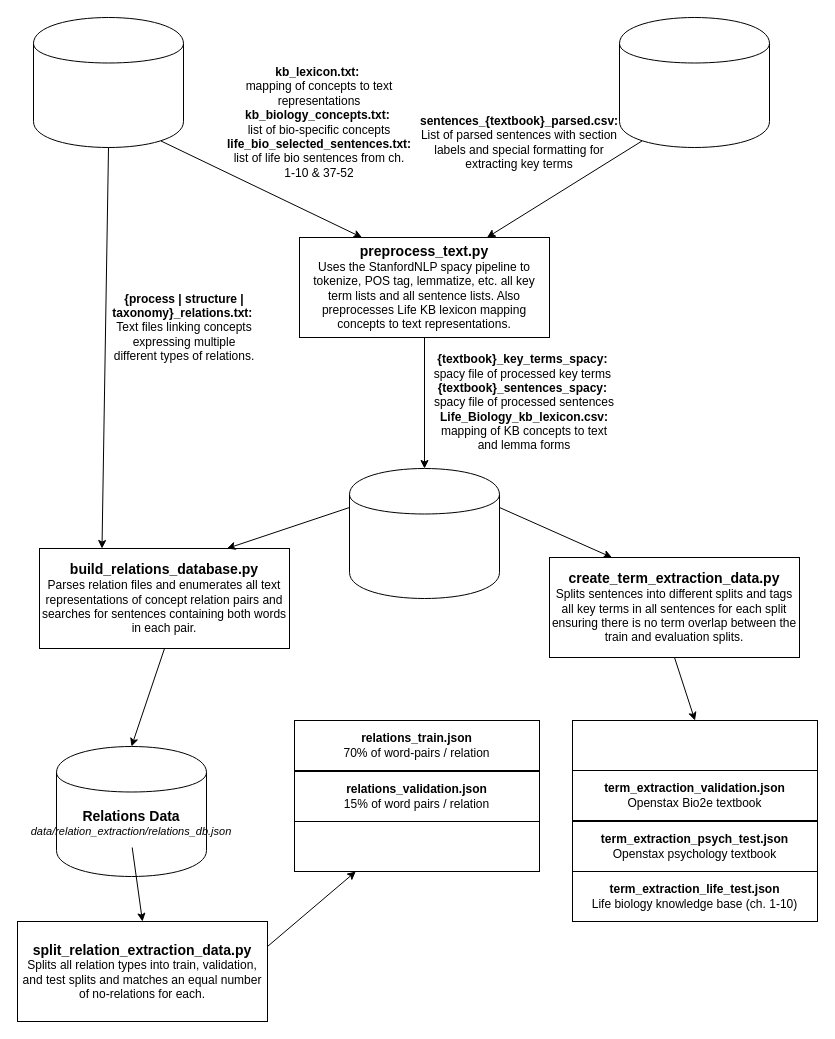
Image size: 835x1039. Some labels were removed from this diagram. The centre of each missing label's shape, as x and y in pixels:
"Life Biology Raw Data data/raw_data/life_bio" goes at (x=108, y=82).
"OpenStax Raw Data data/raw_data/openstax" goes at (x=694, y=82).
"relations_test.json 15% of word pairs / relation" goes at (x=417, y=846).
"Spacy/StanfordNLP Preprocessed Data data/preprocessed_data" goes at (x=424, y=533).
"term_extraction_train.json All openstax textbooks not in other splits" goes at (x=695, y=745).
